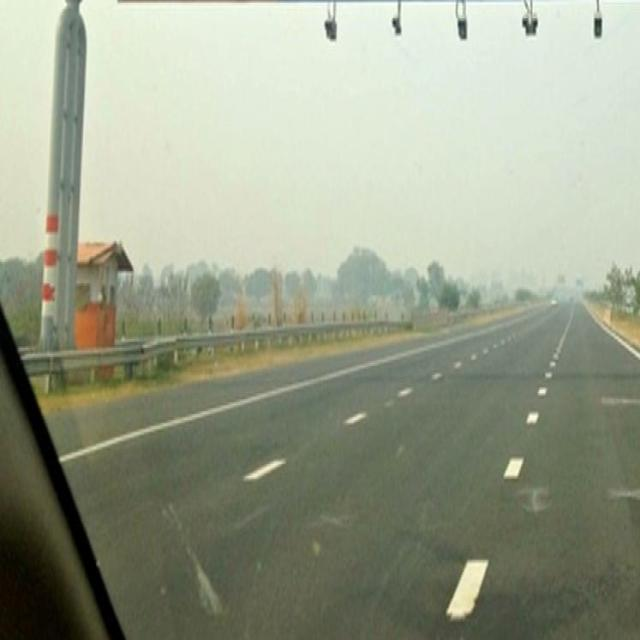Clean road: (50, 323, 640, 640)
